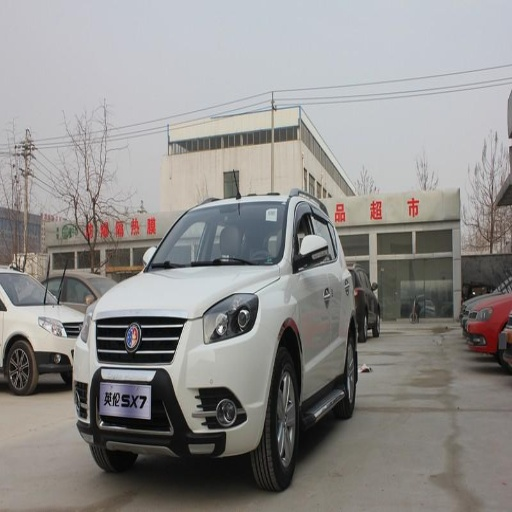front_bumper: (71, 312, 276, 455)
front_glass: (146, 203, 286, 270)
front_left_door: (292, 199, 332, 394)
